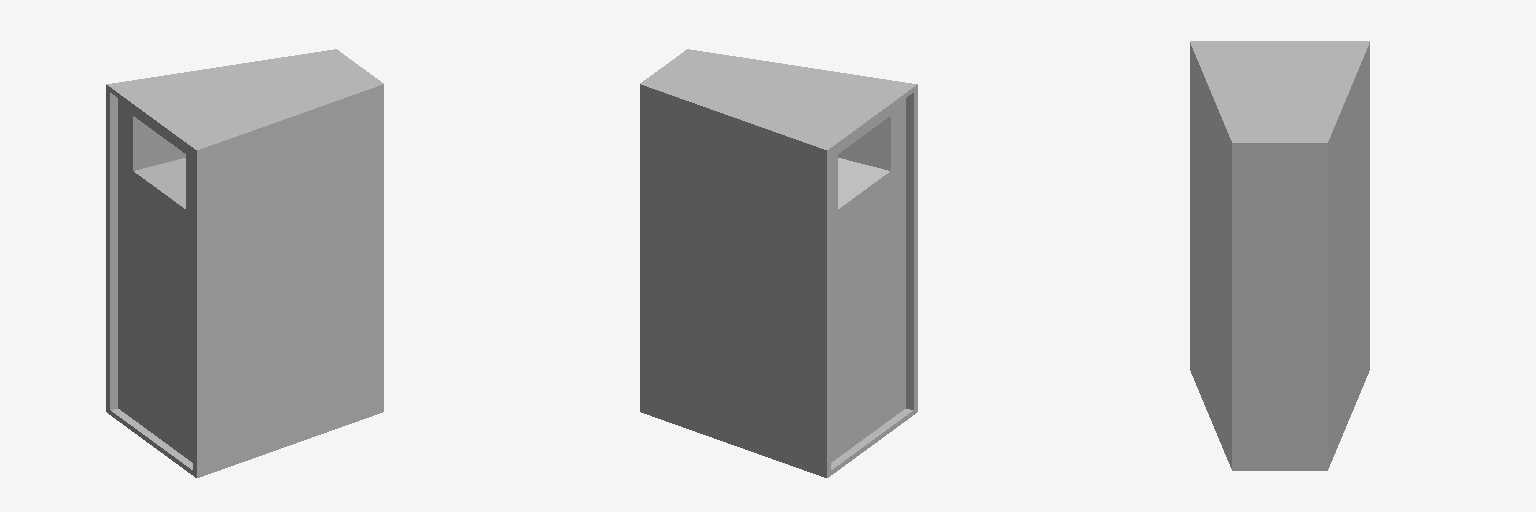
File: Base Enceinte Concert.obj
3 renders of one model, left to right at view 1: azimuth 30°, elevation 25°; view 2: azimuth 150°, elevation 25°; view 3: azimuth 270°, elevation 25°, orthographic.
Visible parts, largest first — view 1: Box001; view 2: Box001; view 3: Box001.
Boxes of the visible parts, box(x1,y1,x2,y2) form: Box001: box(106, 49, 383, 477); Box001: box(640, 49, 917, 477); Box001: box(1190, 41, 1369, 470).
Bounding box in the file's own units: 40 × 60 × 30.